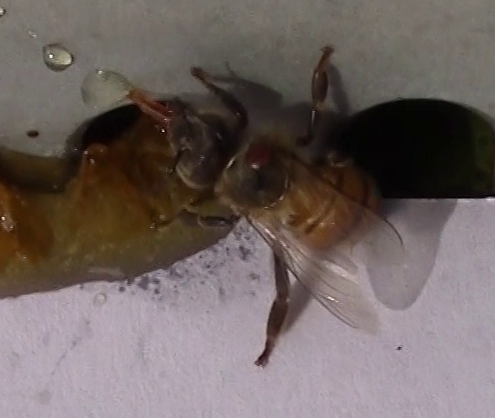Varroa destructor: (240, 140, 277, 170)
